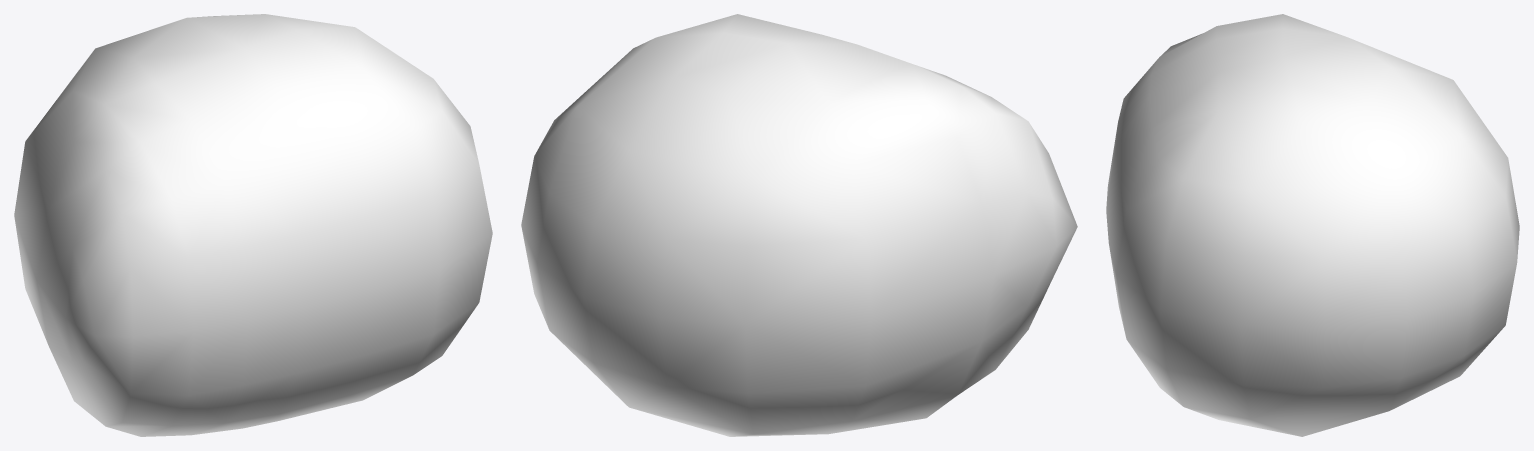
Rendered from Head5.fbx.
3 views of the same model, side by side, from view 1: azimuth 30°, elevation 25°; view 2: azimuth 150°, elevation 25°; view 3: azimuth 270°, elevation 25° (orthographic). The views are drawn at different scales.
Parts seen in each view (by area): view 1: Mesh_0004.rip.004_Mesh_0004.rip_mesh0000.004; view 2: Mesh_0004.rip.004_Mesh_0004.rip_mesh0000.004; view 3: Mesh_0004.rip.004_Mesh_0004.rip_mesh0000.004.
Boxes of the visible parts, bbox=[...] form: Mesh_0004.rip.004_Mesh_0004.rip_mesh0000.004: bbox=[14, 14, 492, 436]; Mesh_0004.rip.004_Mesh_0004.rip_mesh0000.004: bbox=[521, 14, 1077, 436]; Mesh_0004.rip.004_Mesh_0004.rip_mesh0000.004: bbox=[1106, 14, 1519, 436].
Size of the model in its own units: 6.78 by 5.26 by 5.81.
Materials: 1 (1 with a texture image).
